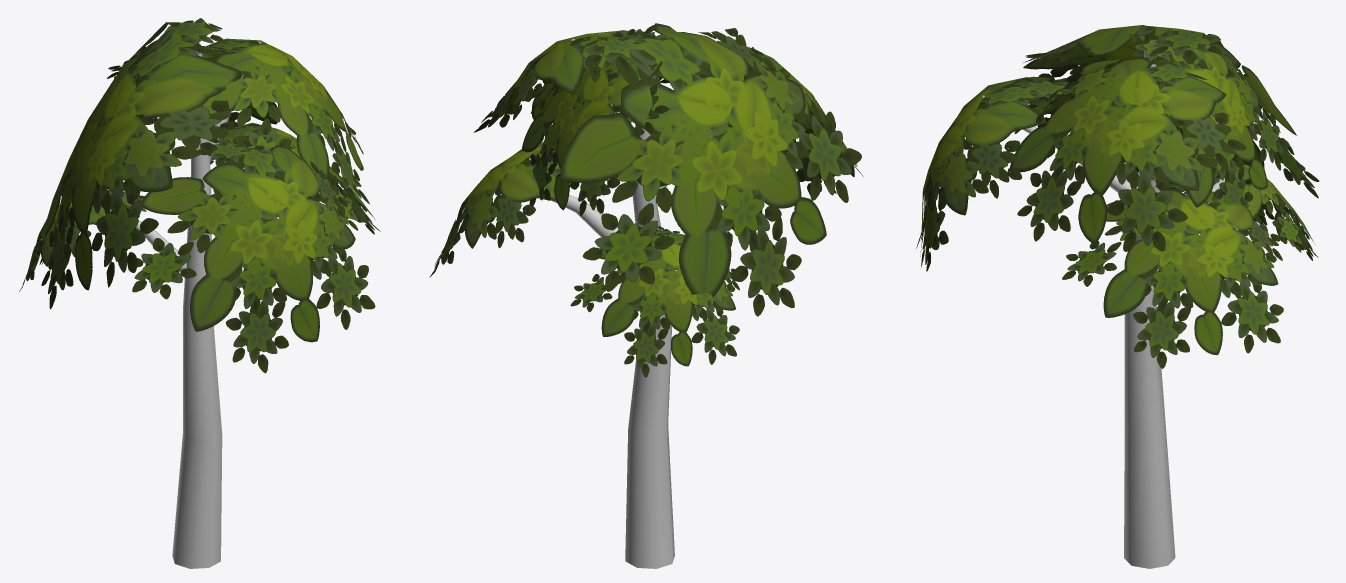
File: Tree2.fbx
The picture shows the model from 3 angles, left to right: view 1: azimuth 30°, elevation 25°; view 2: azimuth 150°, elevation 25°; view 3: azimuth 270°, elevation 25°; orthographic projection. The views are drawn at different scales.
Parts seen in each view (by area): view 1: Tree2; view 2: Tree2; view 3: Tree2.
Boxes of the visible parts, x1,y1,x2,y2 form: Tree2: (19, 18, 380, 568); Tree2: (429, 23, 863, 568); Tree2: (916, 25, 1319, 568).
Bounding box in the file's own units: 1.65 × 2.4 × 1.74.
